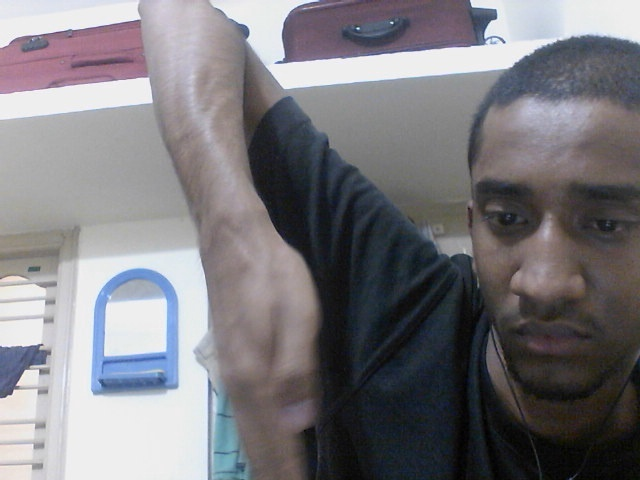hand: (201, 245, 323, 480)
